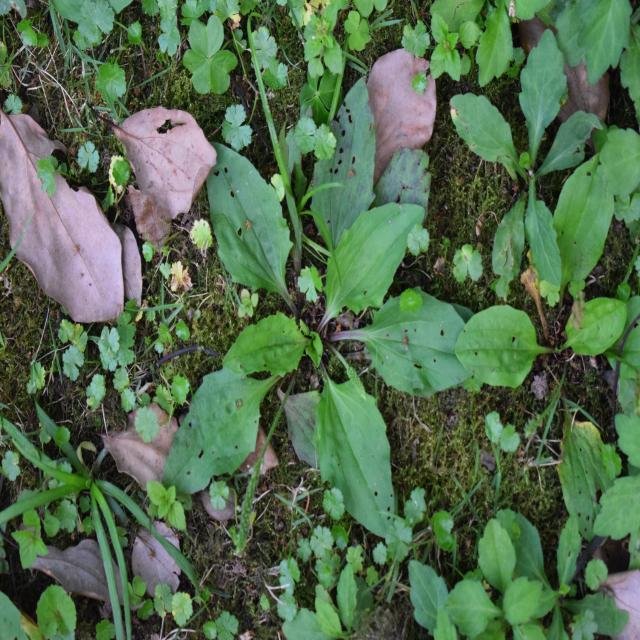plantain: (188, 140, 472, 524)
